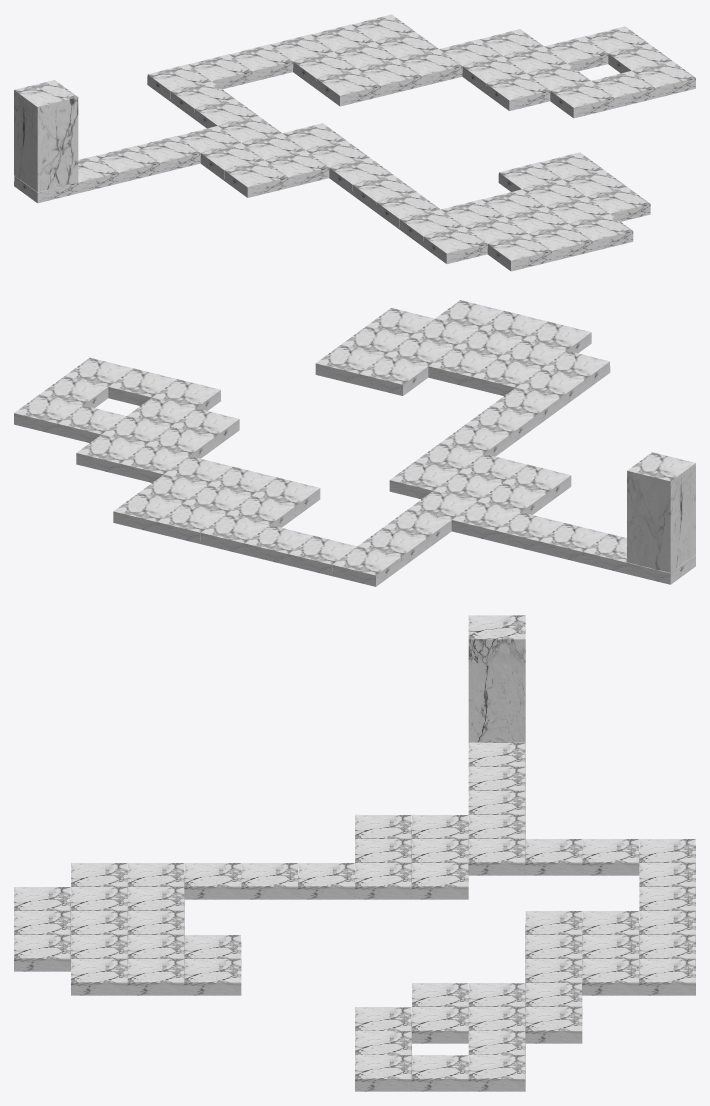
Rendered from neki3.gltf.
3 renders of one model, top to bottom at view 1: azimuth 30°, elevation 25°; view 2: azimuth 150°, elevation 25°; view 3: azimuth 270°, elevation 25°, orthographic. The views are drawn at different scales.
Visible parts, largest first — view 1: Cube, Cube.017, Cube.033, Cube.007, Cube.027, Cube.051, Cube.037, Cube.022, Cube.023, Cube.056, Cube.005, Cube.057 (+45 smaller); view 2: Cube, Cube.054, Cube.010, Cube.005, Cube.006, Cube.011, Cube.013, Cube.047, Cube.015, Cube.004, Cube.001, Cube.009 (+45 smaller); view 3: Cube, Cube.031, Cube.034, Cube.048, Cube.008, Cube.043, Cube.009, Cube.047, Cube.016, Cube.021, Cube.001, Cube.025 (+44 smaller).
Boxes of the visible parts, box(x1,y1,x2,y2) form: Cube: box(14, 80, 78, 192); Cube.017: box(316, 69, 380, 106); Cube.033: box(550, 80, 614, 118); Cube.007: box(224, 160, 288, 197); Cube.027: box(486, 73, 550, 110); Cube.051: box(487, 234, 551, 271); Cube.037: box(423, 226, 487, 263); Cube.022: box(399, 49, 462, 86); Cube.023: box(592, 70, 655, 108); Cube.056: box(570, 214, 633, 251); Cube.005: box(137, 136, 200, 173); Cube.057: box(529, 224, 592, 261); Cube: box(627, 452, 695, 572); Cube.054: box(359, 355, 428, 395); Cube.010: box(332, 546, 401, 586); Cube.005: box(495, 512, 563, 552); Cube.006: box(451, 501, 520, 541); Cube.011: box(288, 535, 356, 575); Cube.013: box(244, 525, 312, 565); Cube.047: box(315, 345, 383, 385); Cube.015: box(201, 514, 269, 554); Cube.004: box(539, 523, 607, 563); Cube.001: box(113, 493, 181, 533); Cube.009: box(76, 434, 144, 474); Cube: box(468, 615, 525, 742); Cube.031: box(468, 1055, 525, 1091); Cube.034: box(468, 839, 525, 875); Cube.048: box(127, 959, 184, 995); Cube.008: box(525, 839, 582, 875); Cube.043: box(184, 863, 241, 899); Cube.009: box(525, 1007, 582, 1043); Cube.047: box(184, 959, 241, 995); Cube.016: box(582, 839, 639, 875); Cube.021: box(582, 959, 639, 995); Cube.001: box(639, 959, 695, 995); Cube.025: box(355, 1055, 411, 1091).
Bounding box in the file's own units: 30 × 4.51 × 24.
Materials: 1 (1 with a texture image).
